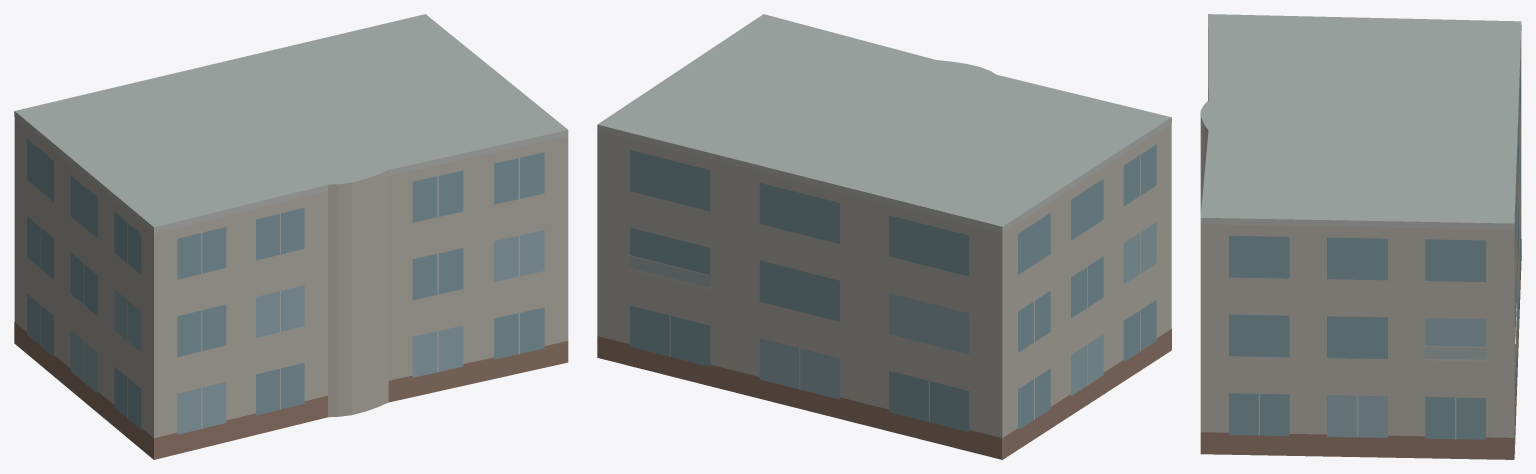
File: survey-upis-32917042.glb
3 views of the same model, side by side, from view 1: azimuth 30°, elevation 25°; view 2: azimuth 150°, elevation 25°; view 3: azimuth 270°, elevation 25° (orthographic).
Parts seen in each view (by area): view 1: survey-upis-32917042.tmp; view 2: survey-upis-32917042.tmp; view 3: survey-upis-32917042.tmp.
Boxes of the visible parts, box(x1,y1,x2,y2) form: survey-upis-32917042.tmp: box(14, 14, 568, 459); survey-upis-32917042.tmp: box(597, 14, 1171, 459); survey-upis-32917042.tmp: box(1200, 14, 1521, 459).
Bounding box in the file's own units: 17.68 × 9.3 × 11.45.
